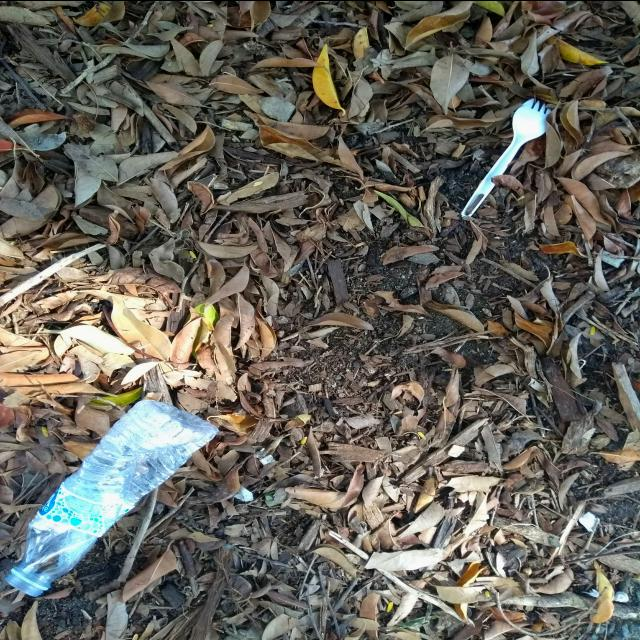Clear plastic bottle: (4, 398, 219, 595)
Plastic utensils: (462, 97, 550, 216)
Unlabeled litter: (257, 454, 276, 464)
